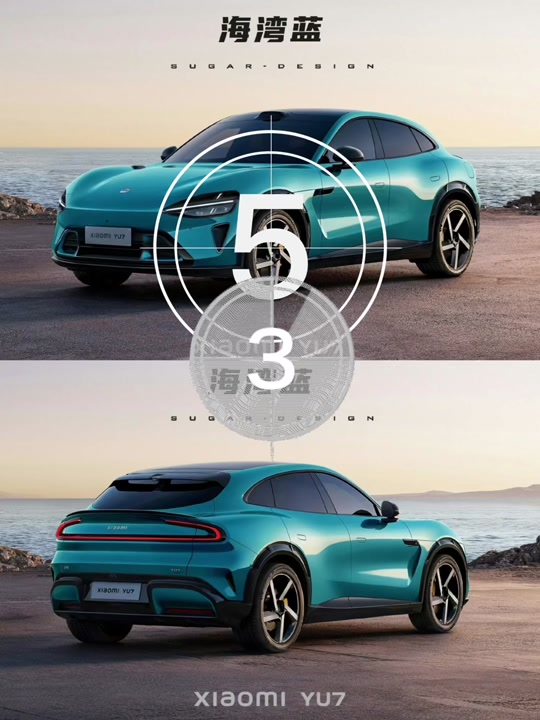other: (46, 458, 485, 649), (48, 100, 479, 283)
